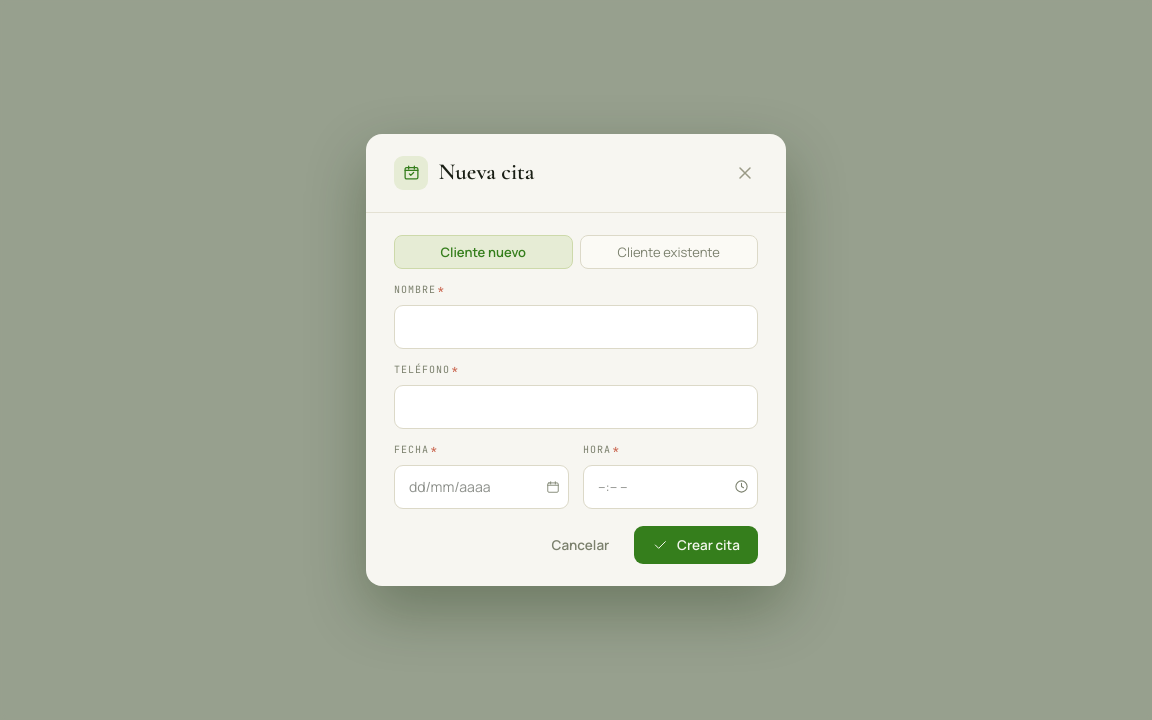
Test: AppointmentModal — create mode › shows search results returned by useClientSearch
Click the button "Cliente existente" at (669, 252), box x1=580 y1=235 x2=758 y2=269
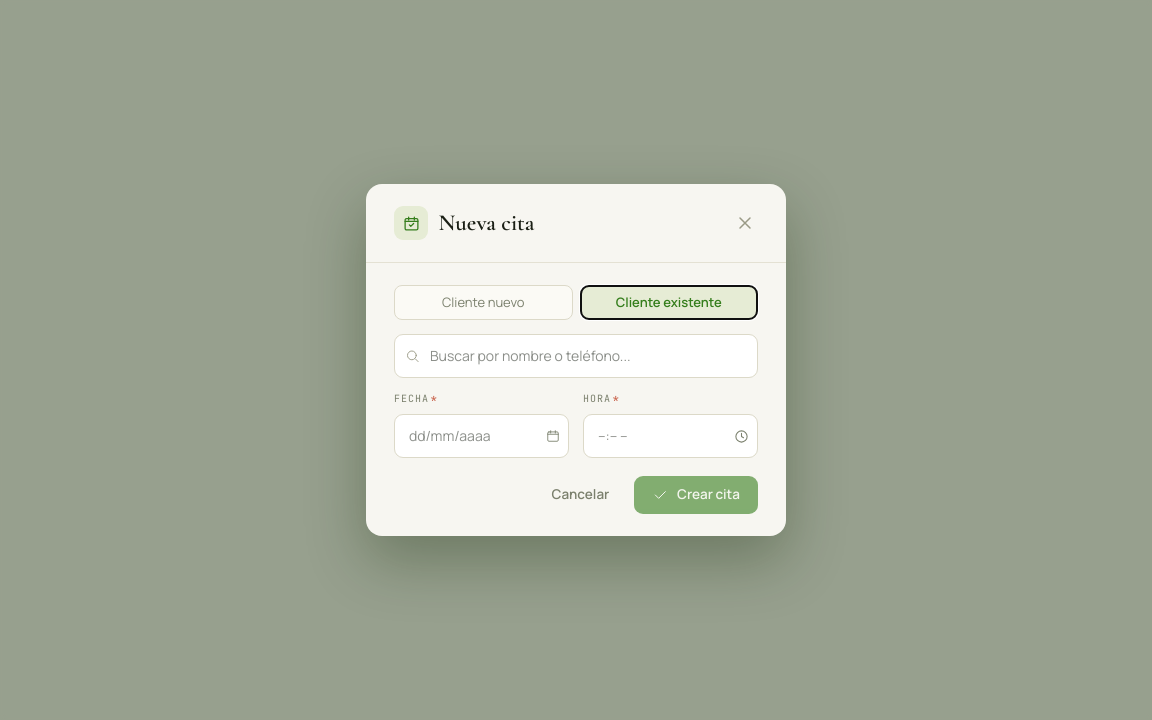
Type "fernando" into the field with placeholder "Buscar por nombre o teléfono..." at (576, 356), box x1=394 y1=334 x2=758 y2=378
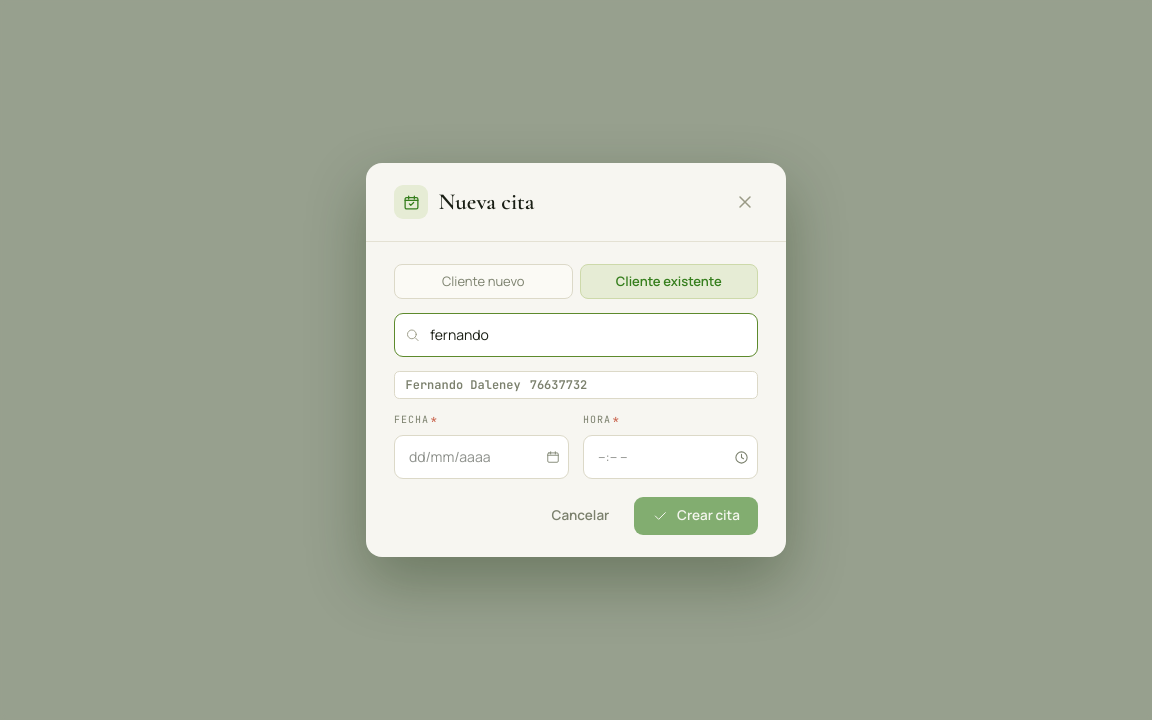
Expected: the text "Fernando Daleney" is shown, x1=406 y1=379 x2=521 y2=391
